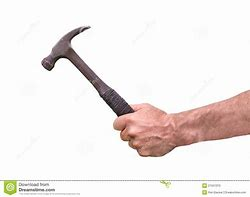hammer: (40, 24, 170, 158)
